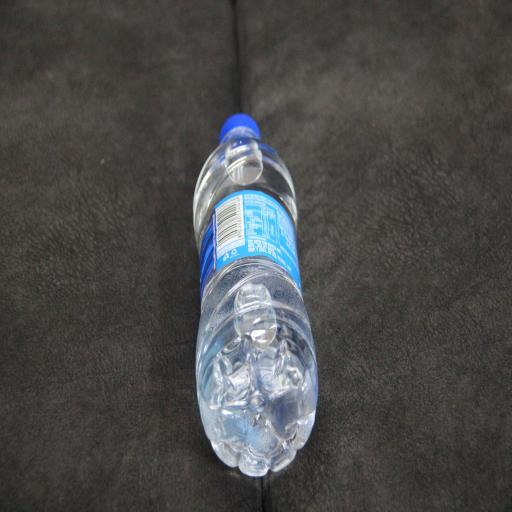Aquafina: (175, 100, 332, 496)
